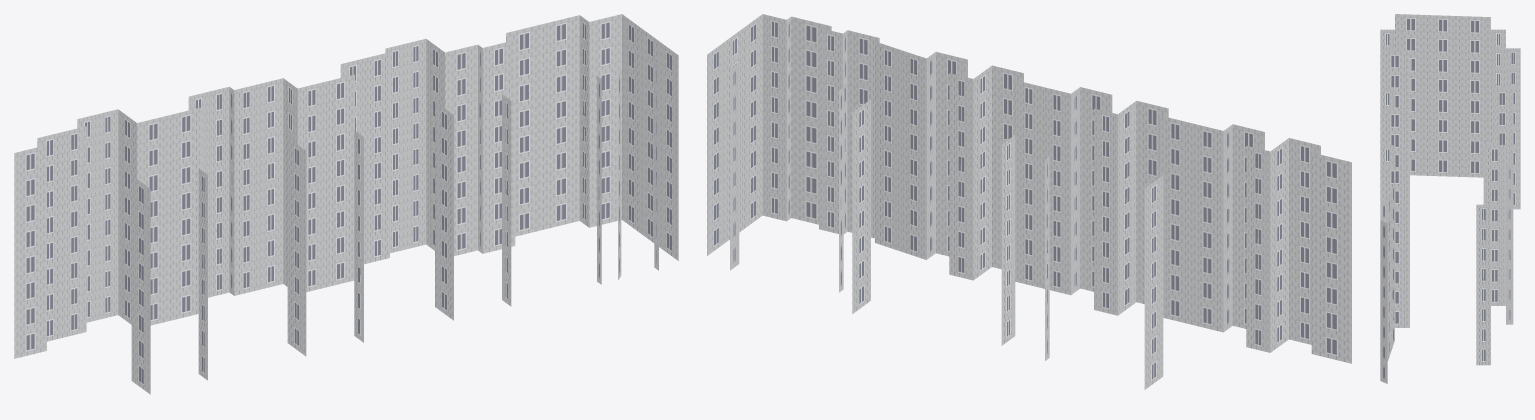
3 views of the same model, side by side, from view 1: azimuth 30°, elevation 25°; view 2: azimuth 150°, elevation 25°; view 3: azimuth 270°, elevation 25° (orthographic). The views are drawn at different scales.
Size of the model in its own units: 74 by 24 by 19.
2 materials, 1 textured.
